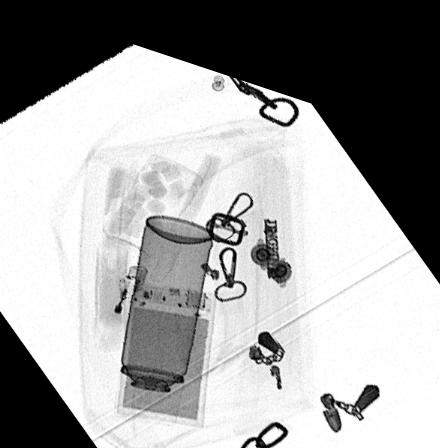Lighter: (97, 255, 149, 345)
Powerbank: (116, 272, 217, 413)
Sprayer: (115, 203, 213, 413)
